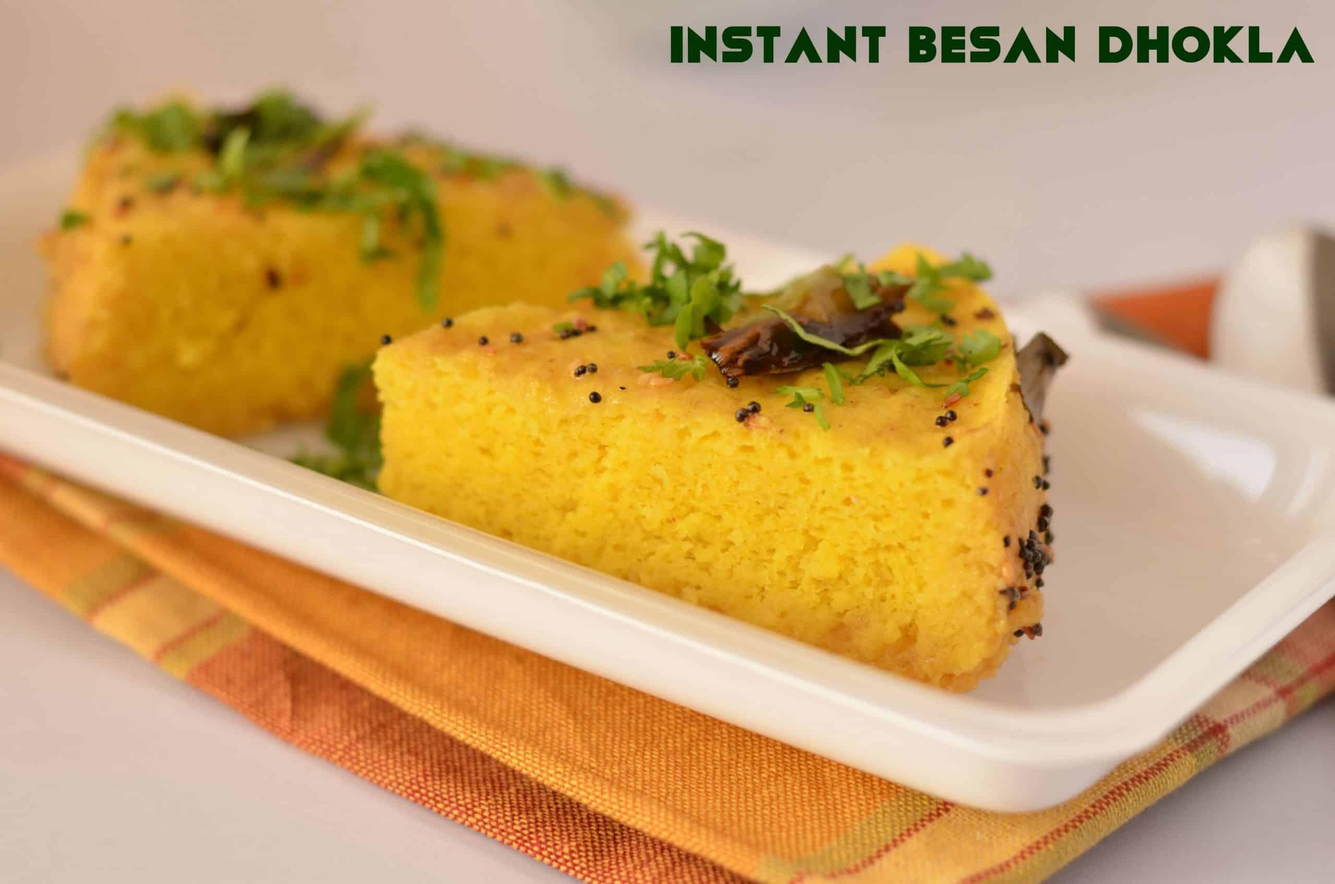dhokla: (396, 270, 1074, 682), (44, 111, 610, 484)
